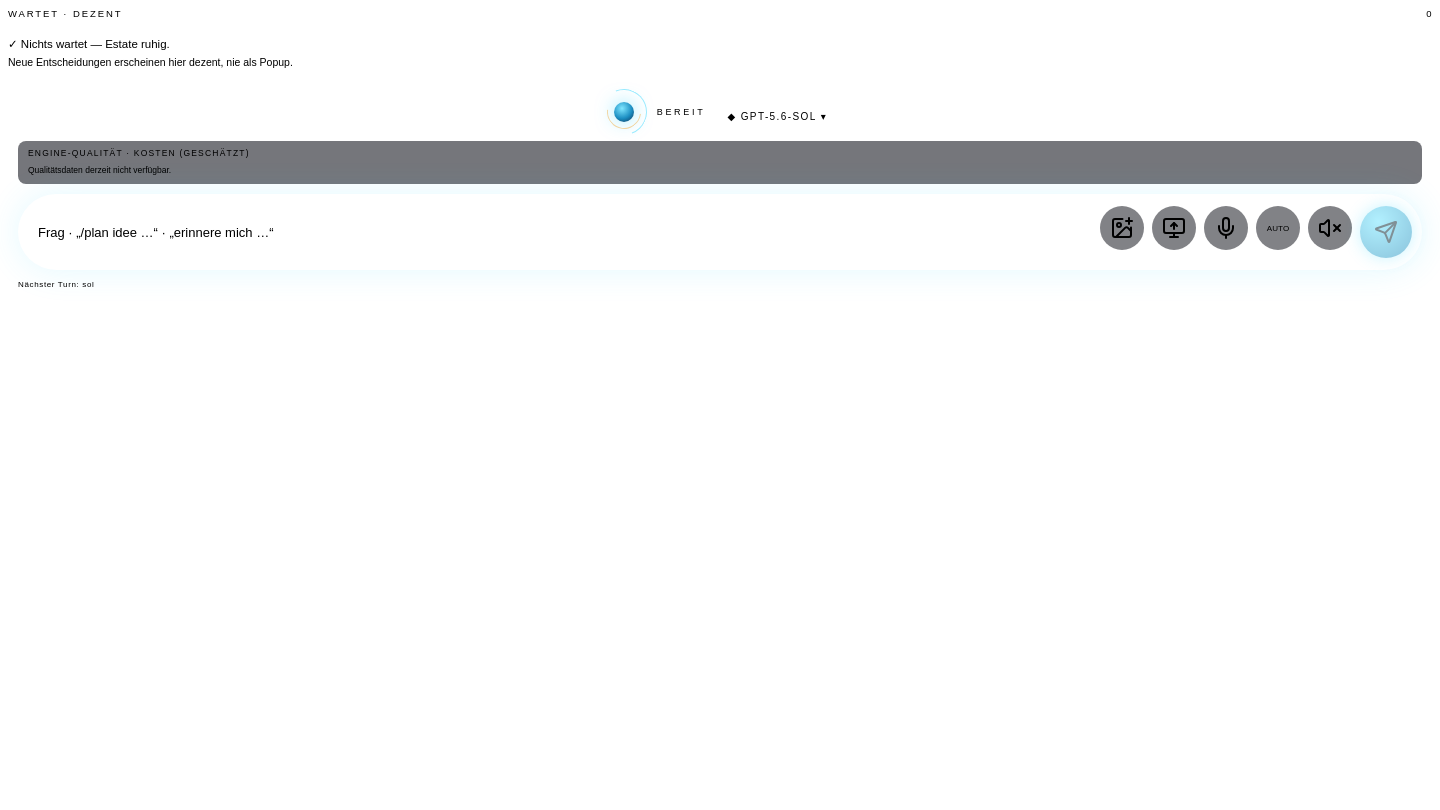
Test case: PlanspecDraft (/plan-Flow, Wire aus pa_planspec.py) › Propose-Erfolg: Hinweis mit #question_id, Inbox-Refresh — Card taucht im Wartet-Panel auf
Type "/plan mache einen Health-Report" into the field named "Nachricht an Jarvis". click: (564, 232)
box: [38,210,1090,254]
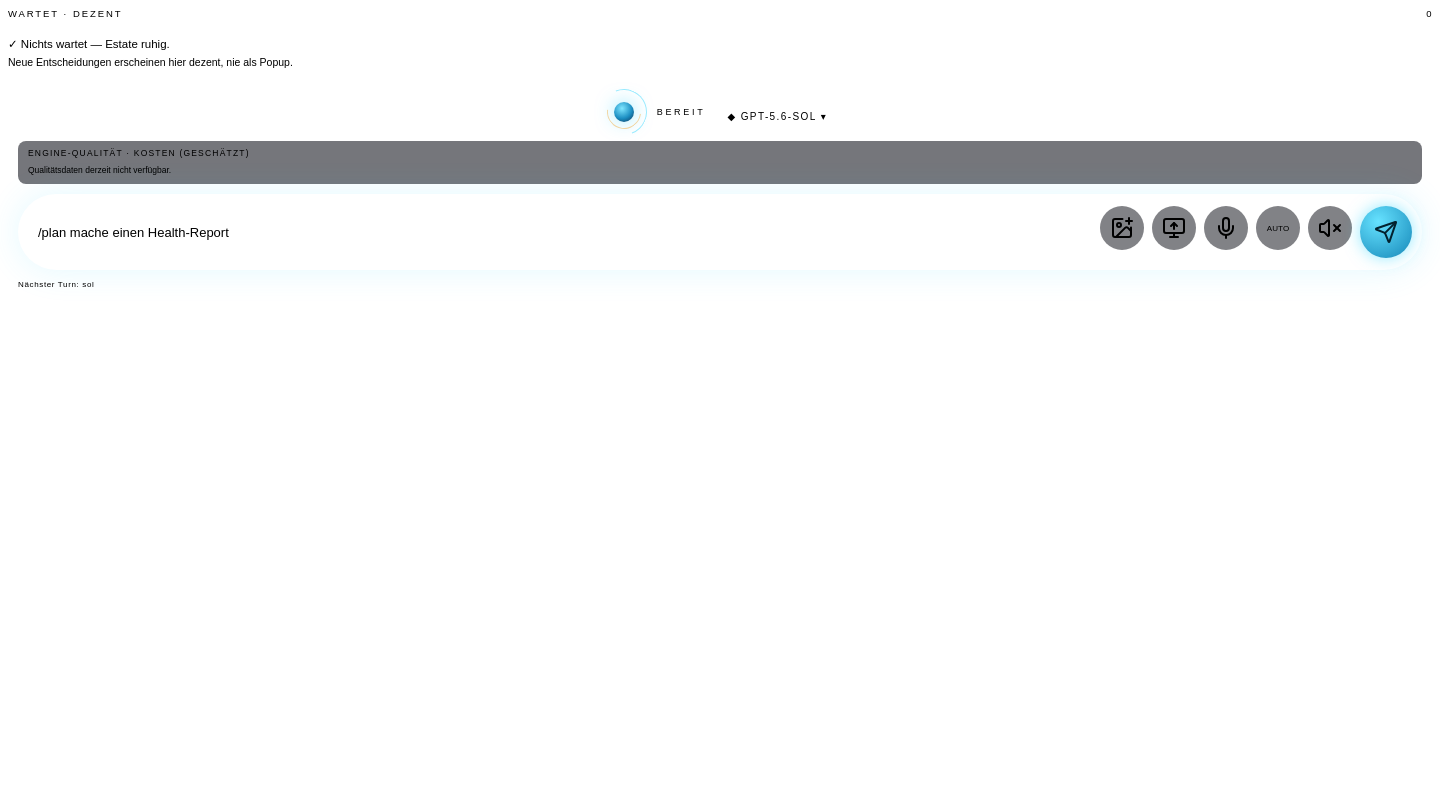
Click the button named "Nachricht senden". click: (1386, 232)
box: [1360,206,1412,258]
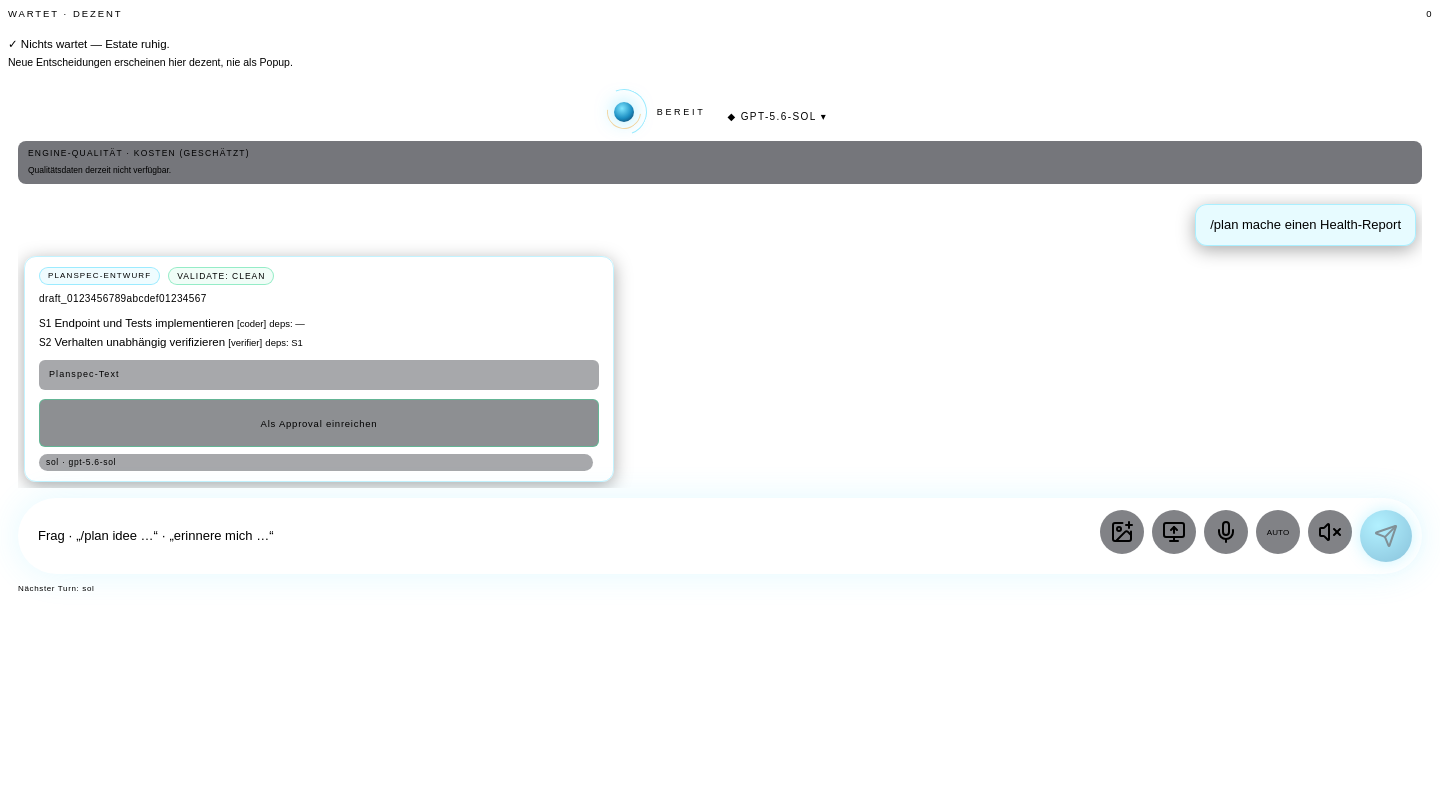
Click the button "Als Approval einreichen". click: (319, 423)
box: [39,399,599,447]
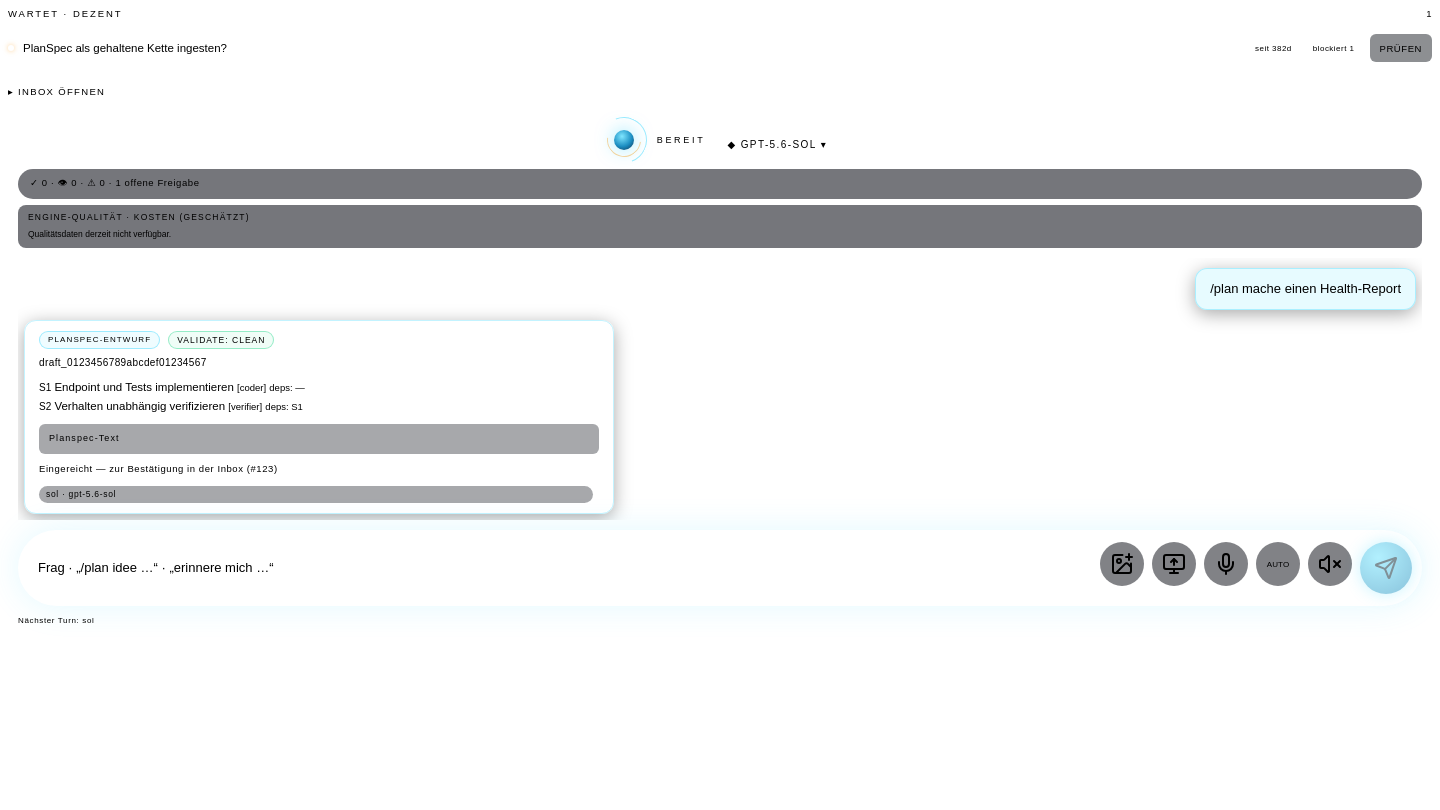
Expected: the text "Eingereicht — zur Bestätigung in der Inbox (#123)" is shown, [39,463,278,474]
Expected: the button "Als Approval einreichen" is gone
Expected: the text "PlanSpec als gehaltene Kette ingesten?" is shown, [23,42,227,54]
